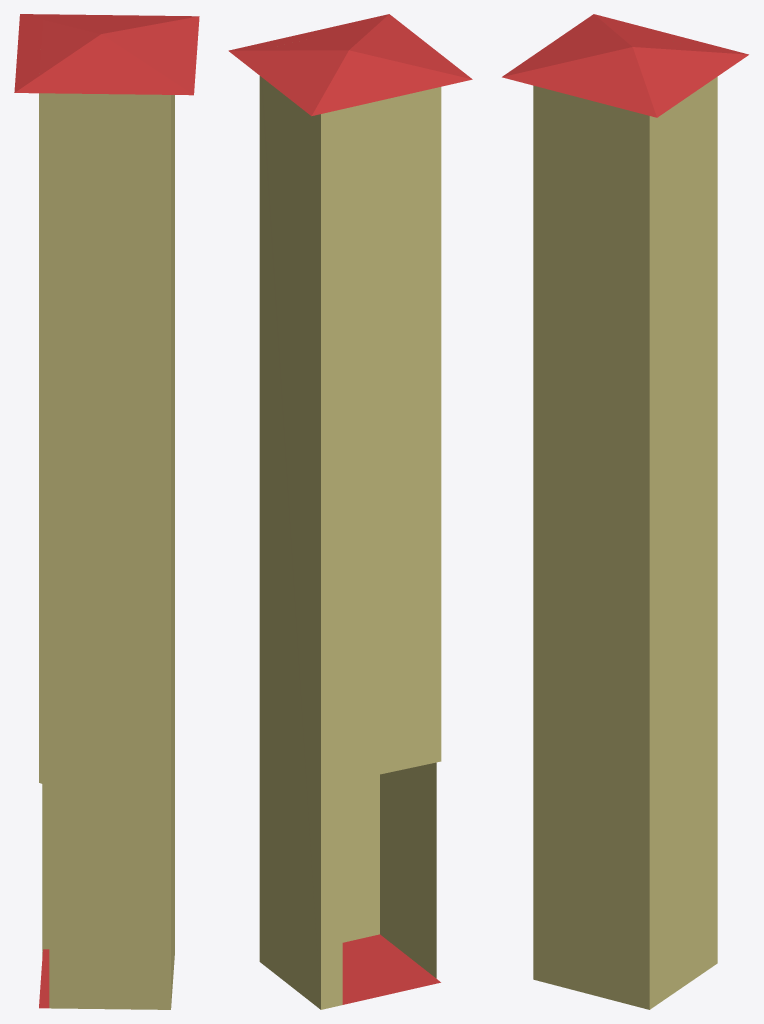
The picture shows the model from 3 angles, left to right: view 1: azimuth 30°, elevation 25°; view 2: azimuth 150°, elevation 25°; view 3: azimuth 270°, elevation 25°; orthographic projection. The views are drawn at different scales.
Visible parts, largest first — view 1: group_5, group_3, group_4, group_6; view 2: group_5, group_3, group_6, group_4; view 3: group_5, group_3, group_4.
Part boxes in pixels (x1,y1,x2,y2): group_5: (39,93,174,1009); group_3: (14,14,199,95); group_4: (14,14,198,92); group_6: (39,949,49,1008); group_5: (259,76,441,1009); group_3: (228,14,472,115); group_6: (342,934,440,1004); group_4: (229,35,472,115); group_5: (533,76,717,1009); group_3: (502,14,748,117); group_4: (587,14,748,117).
Bounding box in the file's own units: 7.95 × 8.02 × 32.94.
